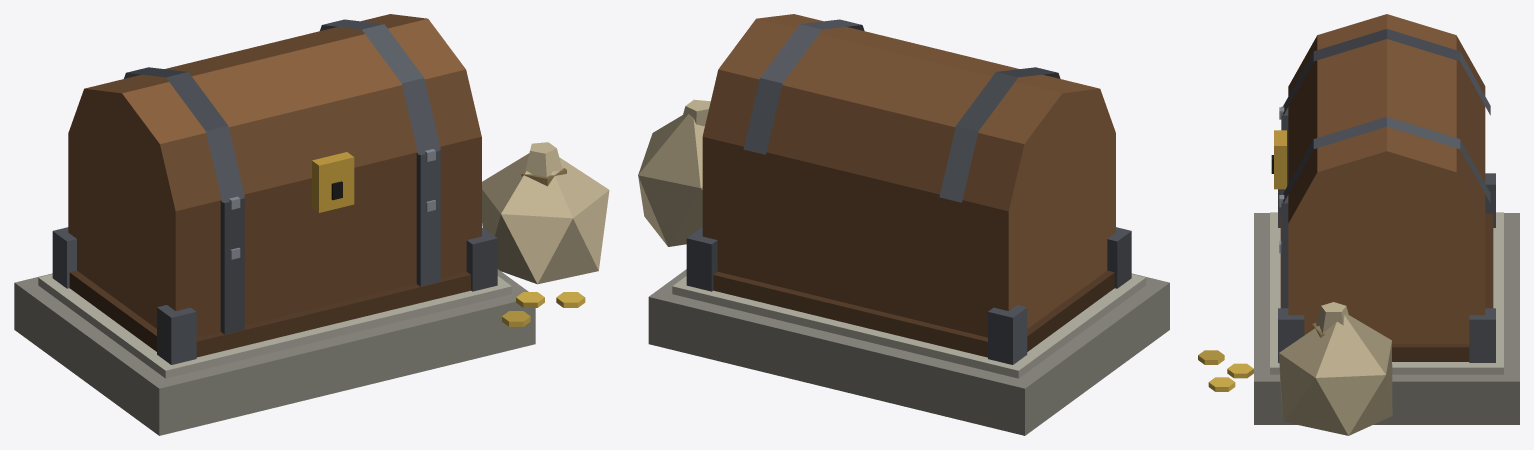
File: vault_chest.glb
The picture shows the model from 3 angles, left to right: view 1: azimuth 30°, elevation 25°; view 2: azimuth 150°, elevation 25°; view 3: azimuth 270°, elevation 25°; orthographic projection. The views are drawn at different scales.
Parts seen in each view (by area): view 1: vault_chest; view 2: vault_chest; view 3: vault_chest.
Boxes of the visible parts, bbox=[...] form: vault_chest: bbox=[14, 14, 609, 435]; vault_chest: bbox=[638, 14, 1169, 435]; vault_chest: bbox=[1198, 14, 1519, 435].
Size of the model in its own units: 1.93 by 1.09 by 1.21.
